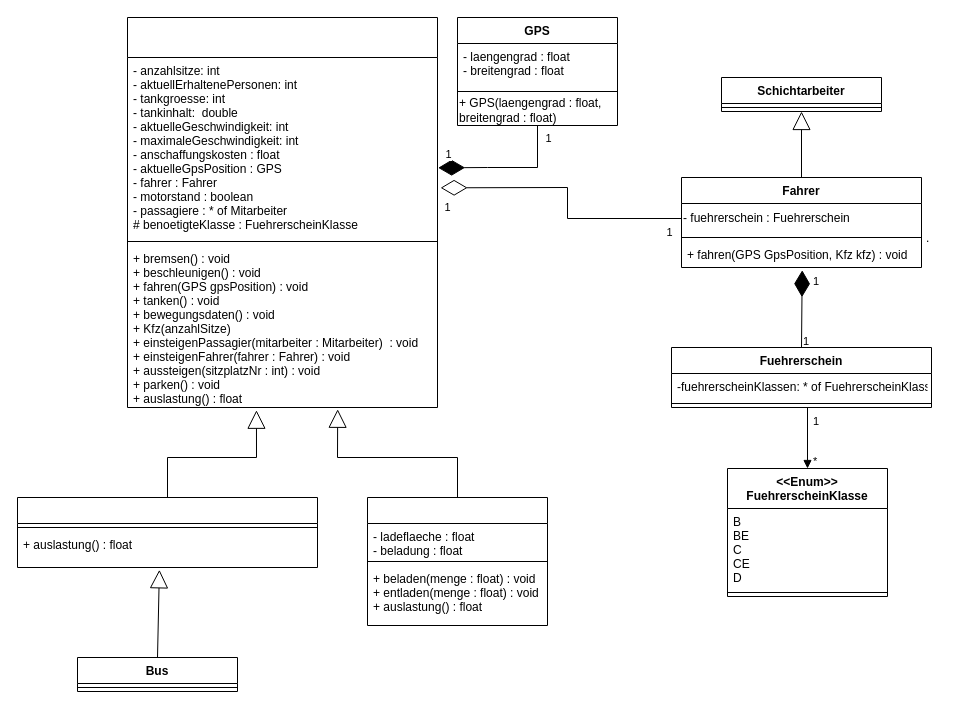
The diagram is 954 pixels wide and 709 high, and some of its shapes have lost their labels. Here are the shapes that lost their labels. From the top down, the box of each, then its label:
(126, 16, 438, 408): Kfz {abstract}
(16, 496, 318, 568): Personentransportfahrzeug
(366, 496, 548, 626): LKW
